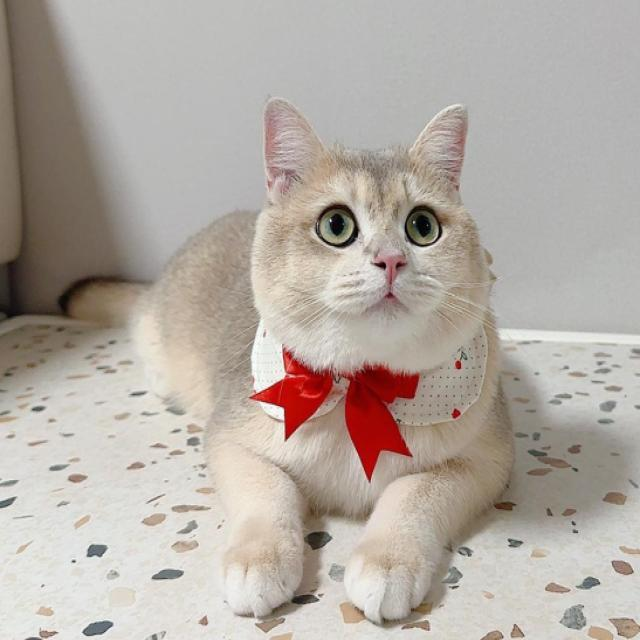cats: (193, 82, 514, 612)
